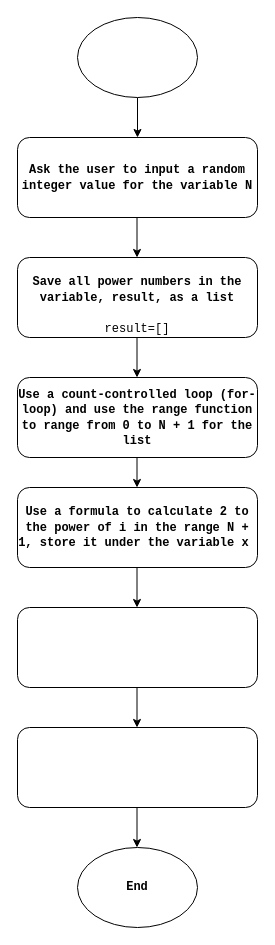
Image size: 275x945. Some labels were removed from this diagram. Here are the shapes that lost their labels. From the top down, the centre of each, then its label:
At point 137,57: "Start".
At point 137,647: "Use the append method to have the result list contain all the powers to 2".
At point 137,767: "Print the end result by printing the variable x".
